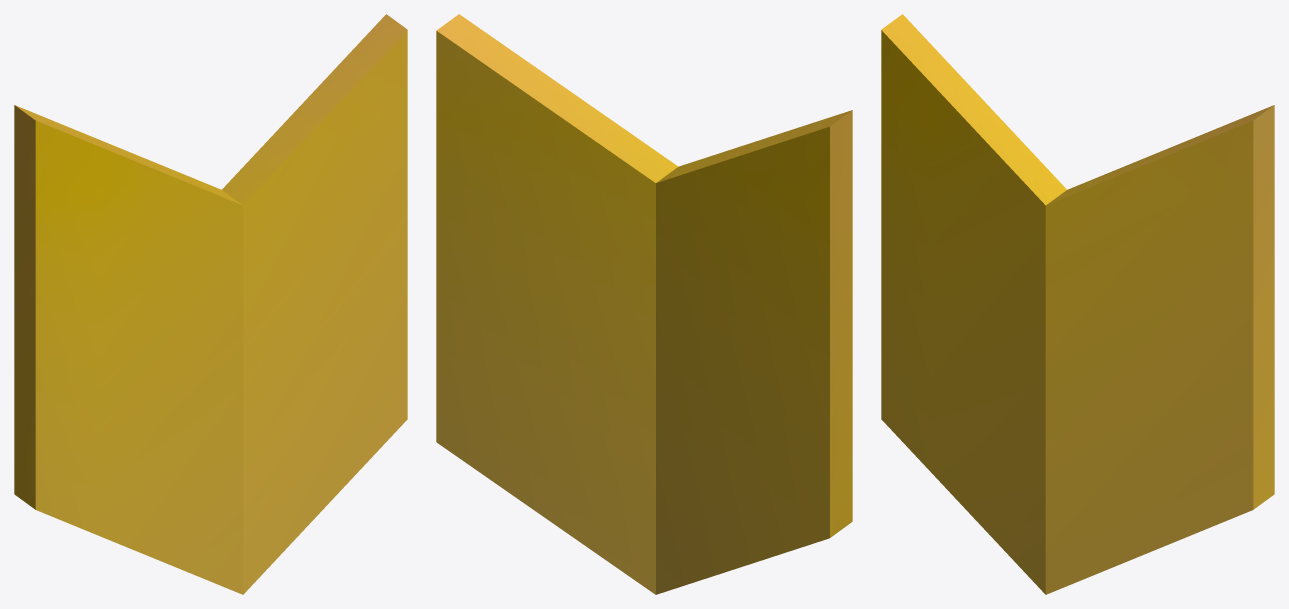
Rendered from ArmorLvl4.fbx.
3 renders of one model, left to right at view 1: azimuth 30°, elevation 25°; view 2: azimuth 150°, elevation 25°; view 3: azimuth 330°, elevation 25°, orthographic. The views are drawn at different scales.
Parts seen in each view (by area): view 1: armor_lvl4; view 2: armor_lvl4; view 3: armor_lvl4.
Part boxes in pixels (bbox=[...]): armor_lvl4: bbox=[14, 14, 407, 594]; armor_lvl4: bbox=[436, 14, 852, 594]; armor_lvl4: bbox=[881, 14, 1274, 594].
Size of the model in its own units: 1.4 by 1.81 by 0.2794.
